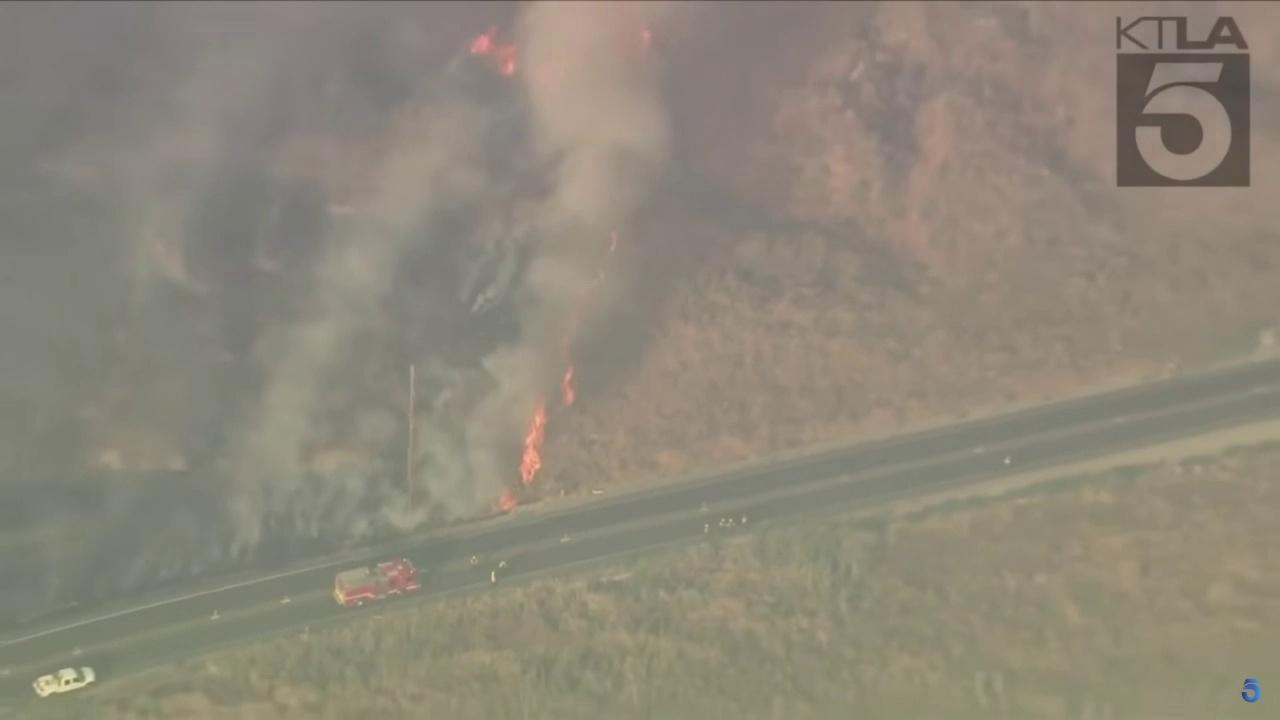fire: (465, 25, 518, 75), (519, 400, 547, 489), (559, 365, 577, 409), (494, 488, 516, 513), (608, 230, 619, 254)
smoke: (0, 0, 686, 601)
